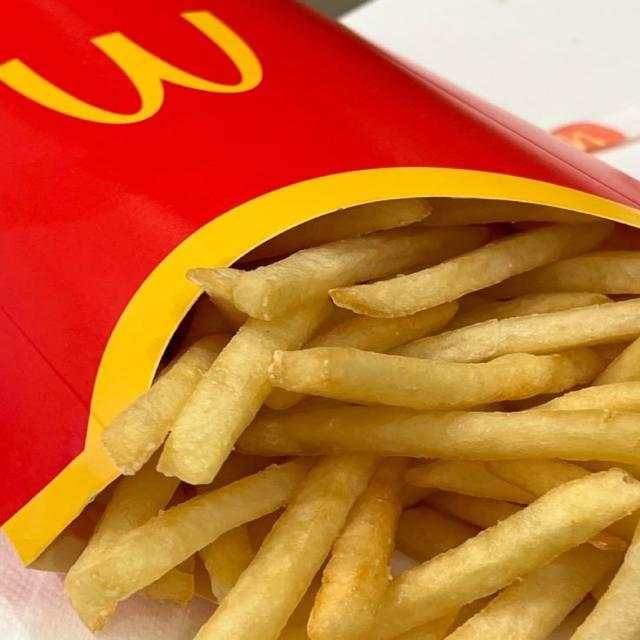potato fries: (56, 199, 639, 639), (371, 470, 639, 639), (66, 459, 311, 632), (197, 456, 377, 639), (158, 300, 330, 484), (190, 228, 487, 319), (331, 222, 613, 317), (238, 407, 639, 463), (269, 348, 605, 409), (308, 458, 408, 639), (102, 335, 230, 474), (448, 545, 619, 639), (393, 299, 639, 362), (67, 456, 179, 581), (242, 199, 432, 262), (307, 303, 457, 352), (573, 532, 639, 639), (491, 252, 639, 298), (447, 292, 611, 330), (407, 460, 534, 503), (423, 198, 593, 227), (396, 506, 479, 561), (199, 524, 254, 602), (487, 460, 589, 496), (187, 268, 246, 330), (427, 492, 522, 528), (532, 381, 639, 411), (278, 573, 320, 639), (184, 295, 232, 345), (594, 339, 639, 384), (396, 611, 458, 639)
